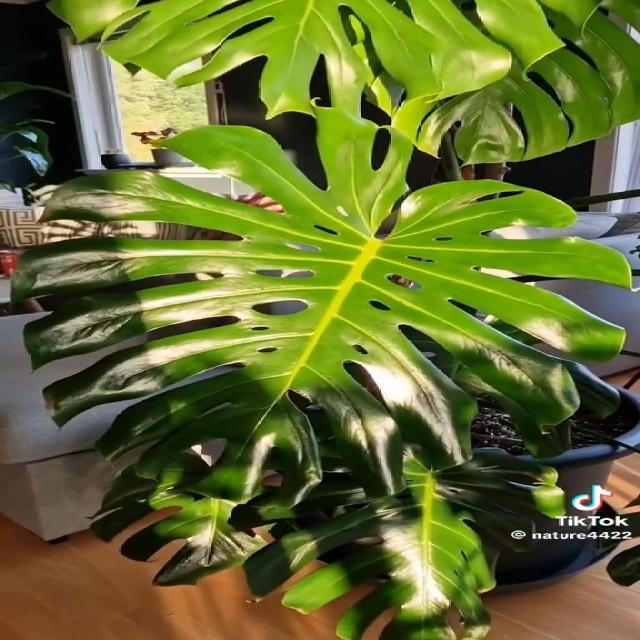roslina_zdrowa: (8, 0, 640, 640)
